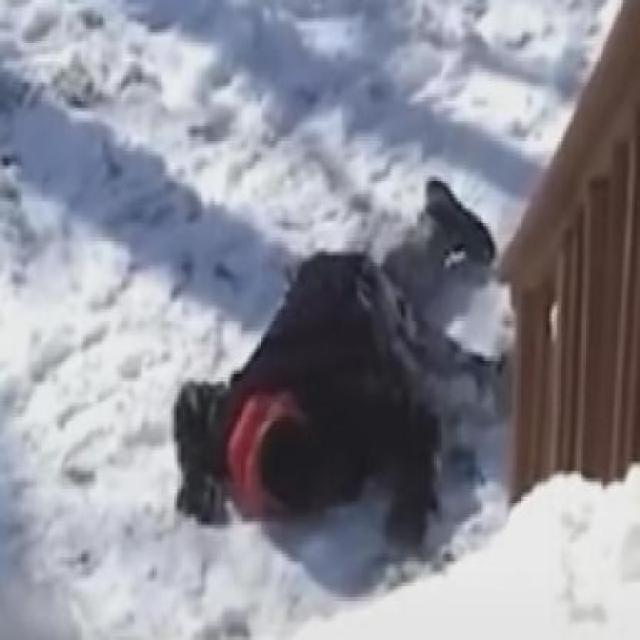fall: (166, 173, 506, 569)
